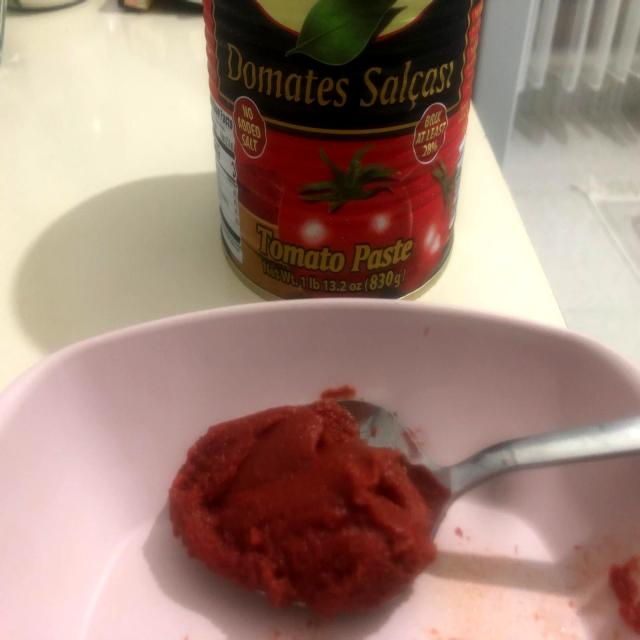tomato paste: (204, 0, 473, 297), (157, 375, 472, 612)
